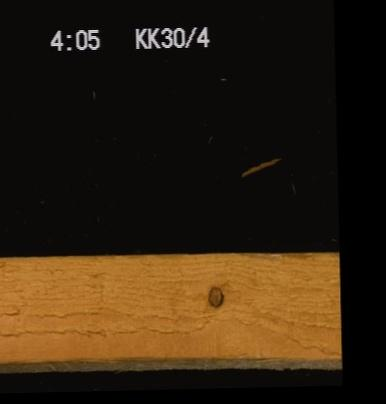dry_knot: (204, 282, 224, 310)
